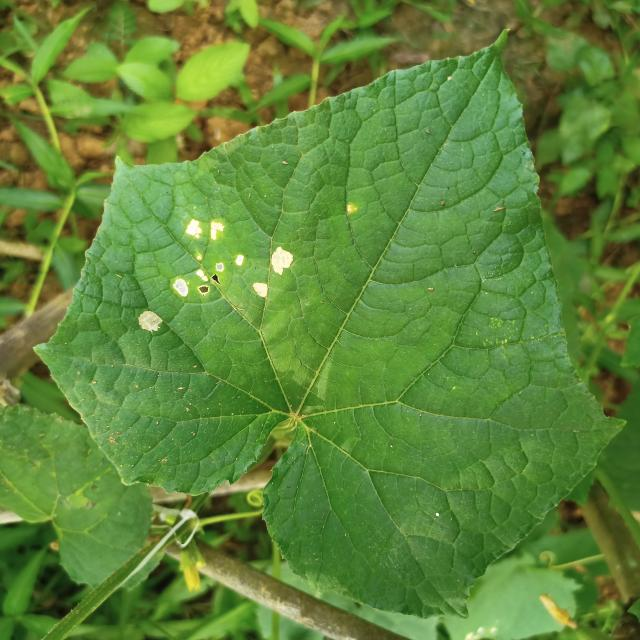disease_cucumber: (140, 217, 293, 335)
